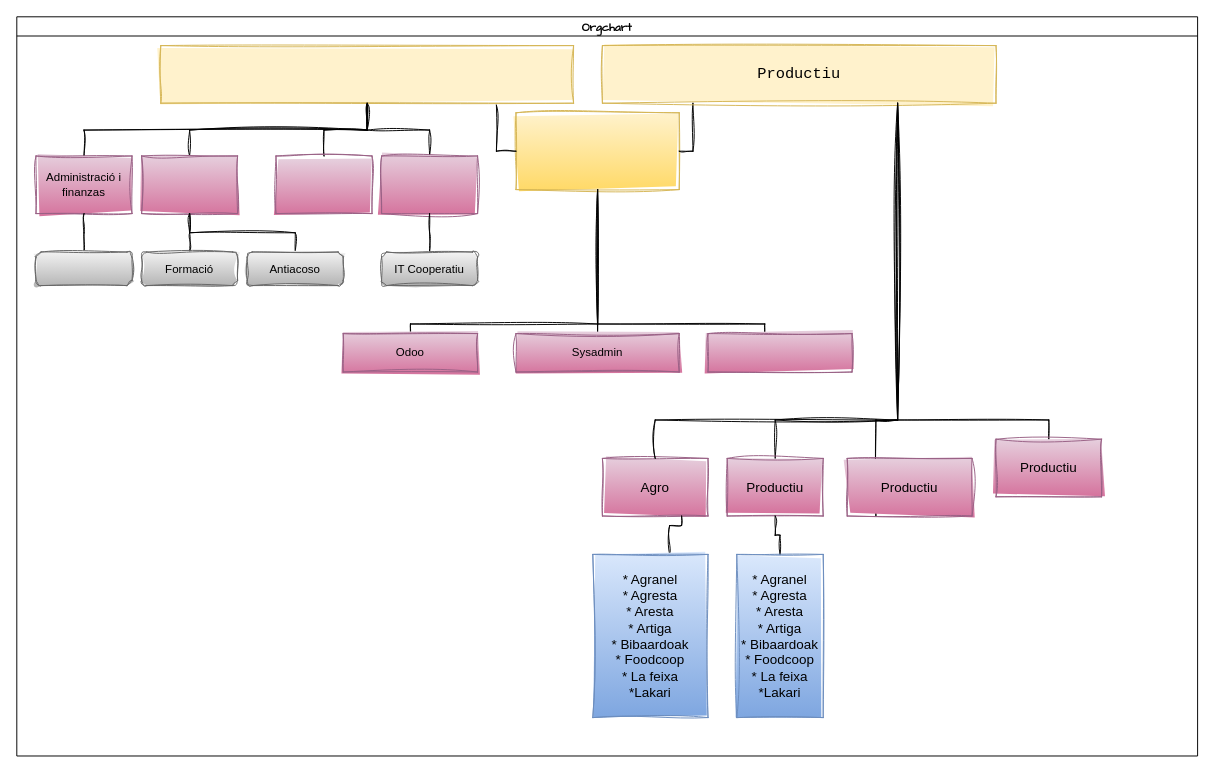
Image size: 1214x773. Some labels were removed from this diagram. Each missing label, with the centre of its shape:
BI: (x=779, y=352)
Comunicació i comunitat: (x=429, y=184)
I + D: (x=597, y=151)
Organització del treball: (x=323, y=184)
Persones i organització: (x=189, y=184)
Protecció de dades: (x=83, y=268)
Reproductiu: (x=367, y=74)
